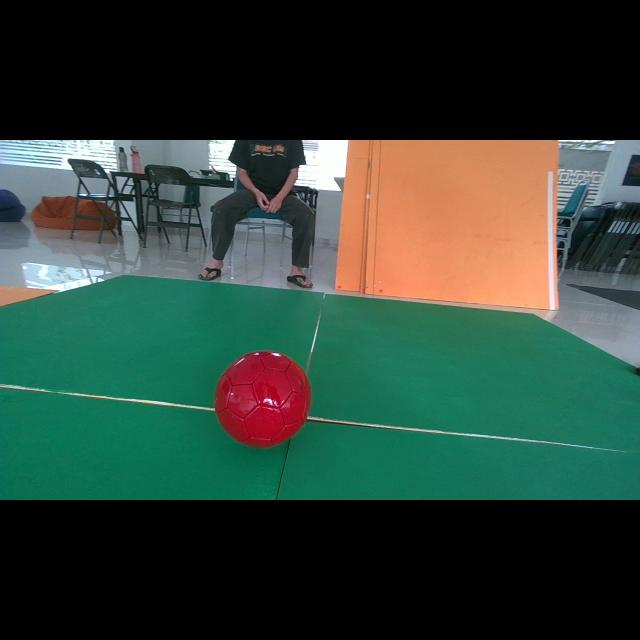R: (214, 350, 311, 447)
